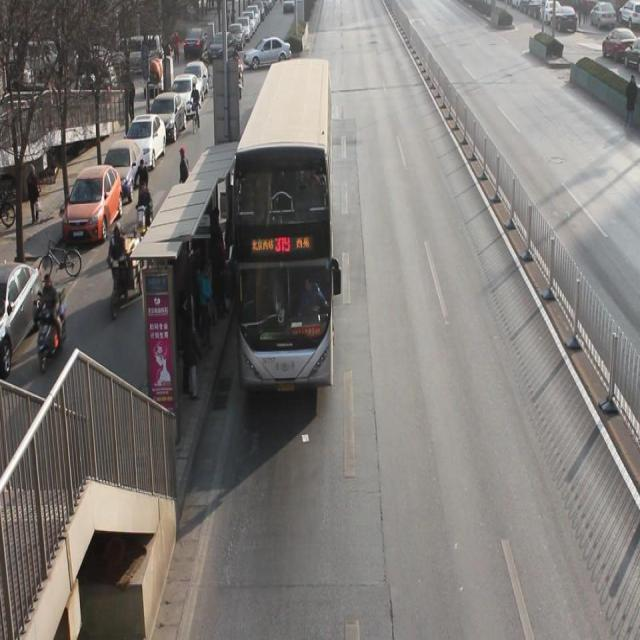van: (232, 61, 333, 388)
